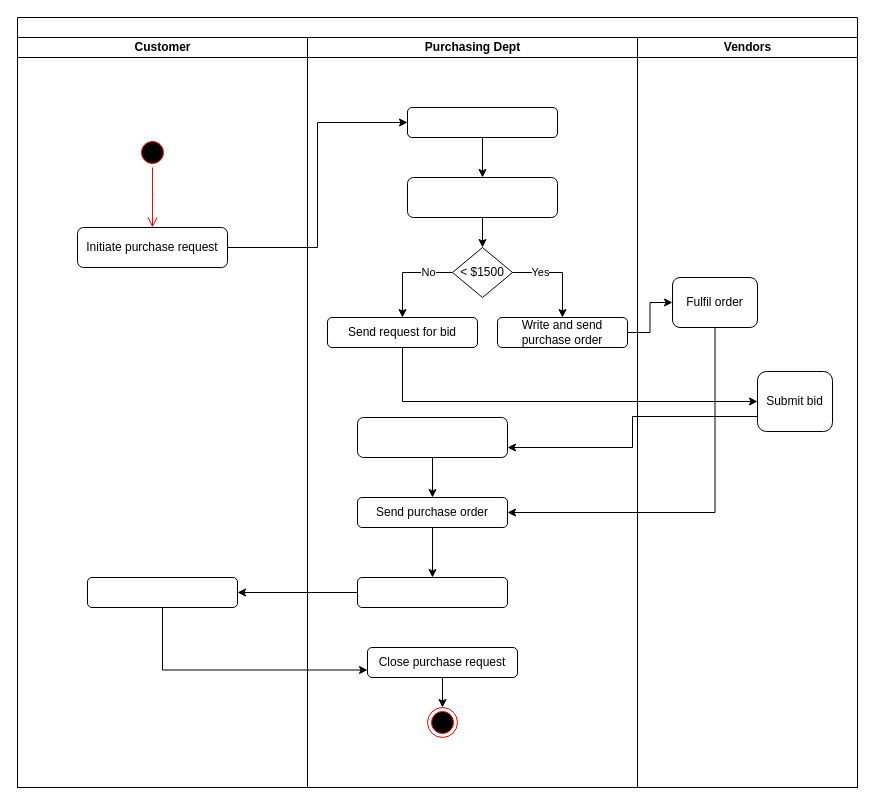
Some shapes in this 875 by 805 pixel diagram are drawn without their labels. The shapes that lost their labels are listed below. From the top down, each one's centre as x and y in pixels, then its label:
At [482,122]: "Receive purchase request".
At [482,197]: "Check purchase request amount".
At [432,437]: "Select bid and write purchase order".
At [162,592]: "Receive products".
At [432,592]: "Monitor purchase order".
